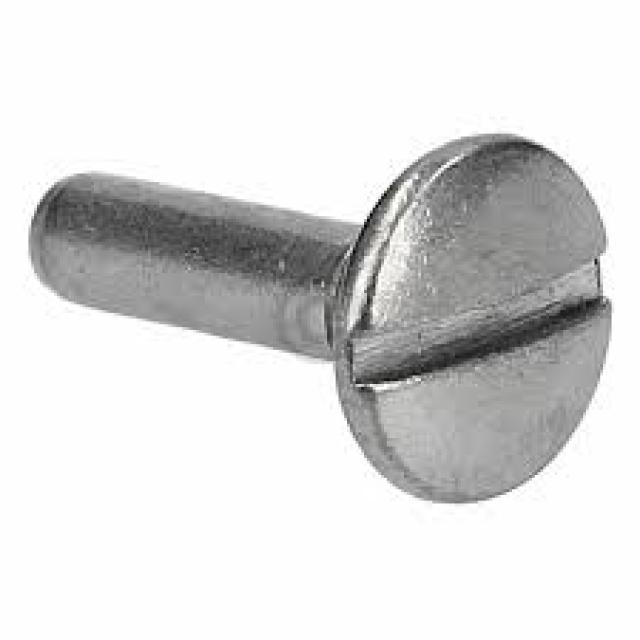duz: (336, 130, 614, 503)
